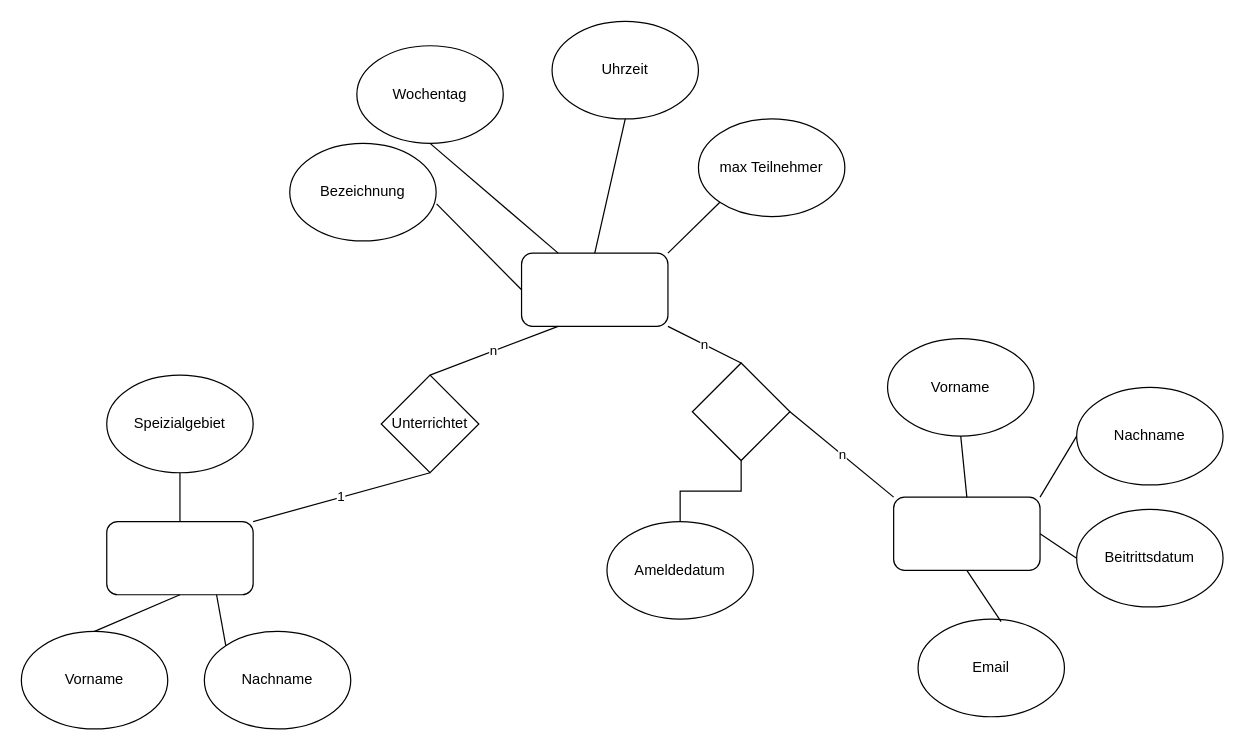
The diagram is 1244 pixels wide and 750 high, and some of its shapes have lost their labels. The centre of each missing label's shape, as x and y in pixels:
Anmeldung: the point at 740,411
Kurs: the point at 594,289
Mitglieder: the point at 966,533
Trainer: the point at 179,557
